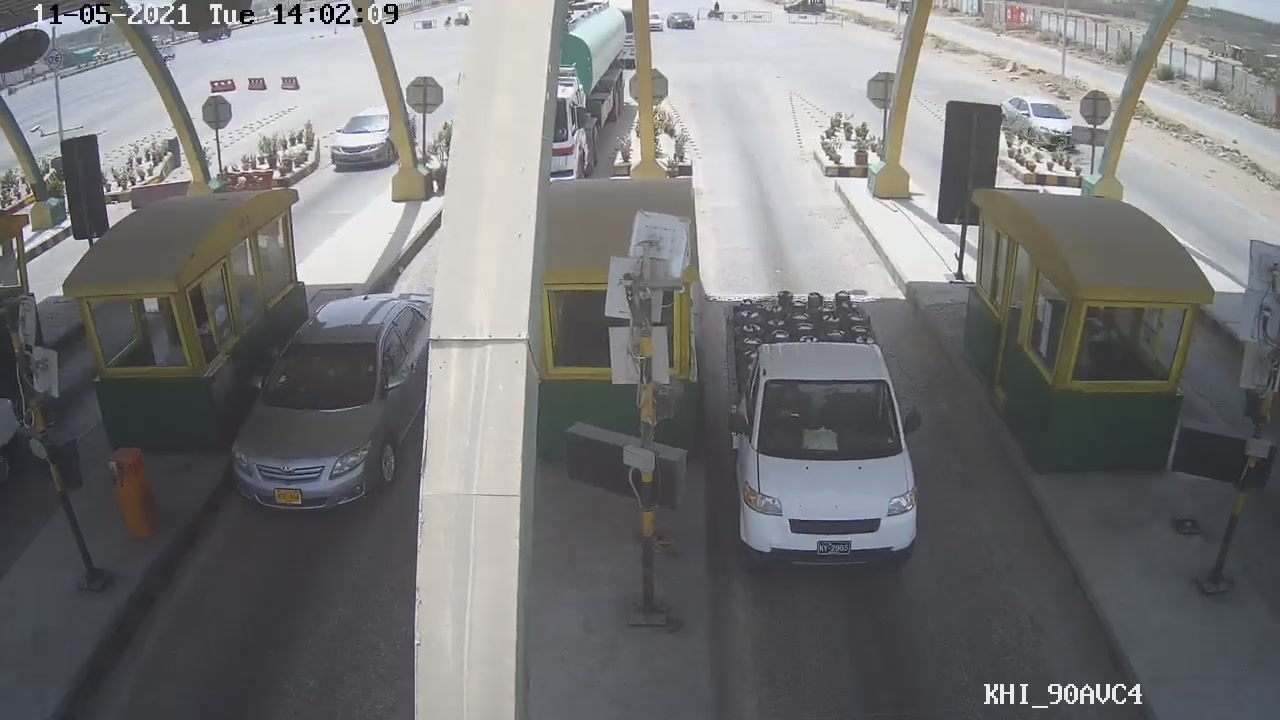F2: (715, 279, 911, 576)
